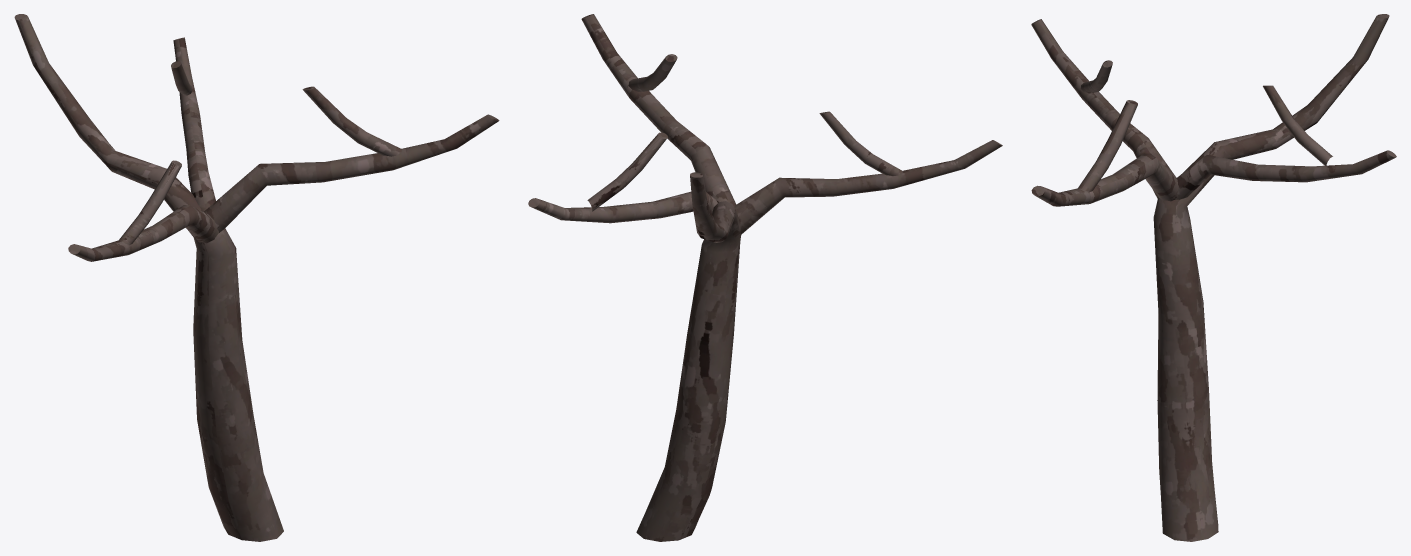
File: deadtree_2.glb
3 views of the same model, side by side, from view 1: azimuth 30°, elevation 25°; view 2: azimuth 150°, elevation 25°; view 3: azimuth 270°, elevation 25° (orthographic). The views are drawn at different scales.
Visible parts, largest first — view 1: DeadTree_2; view 2: DeadTree_2; view 3: DeadTree_2.
Boxes of the visible parts, box(x1,y1,x2,y2) form: DeadTree_2: box(14, 14, 499, 541); DeadTree_2: box(528, 14, 1002, 541); DeadTree_2: box(1031, 14, 1396, 541).
Size of the model in its own units: 4.6 by 4.83 by 3.54.
1 material, 1 textured.
